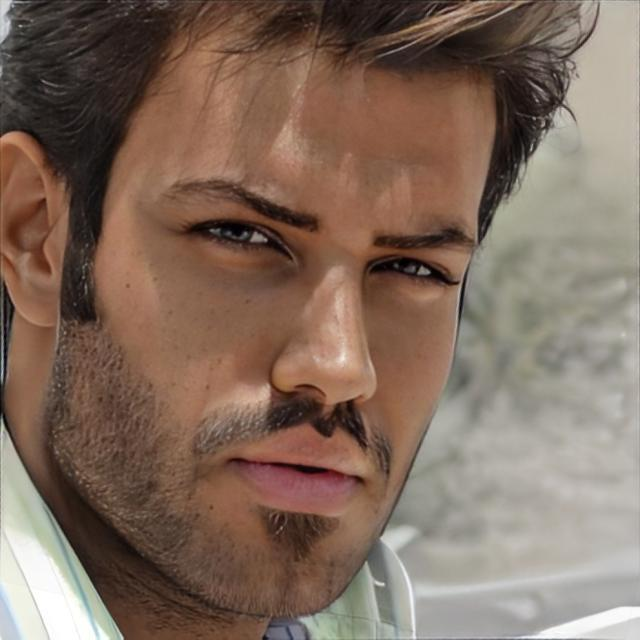anger: (97, 60, 499, 618)
